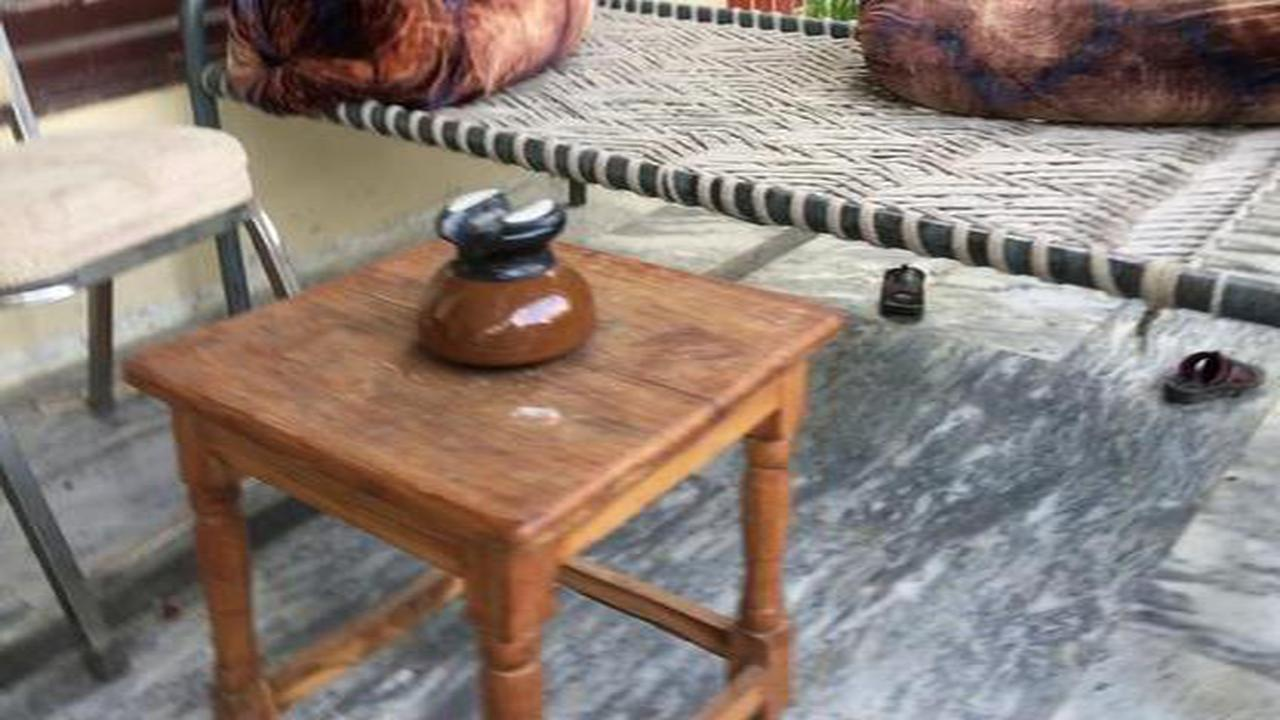insulator_pin: (401, 173, 619, 383)
